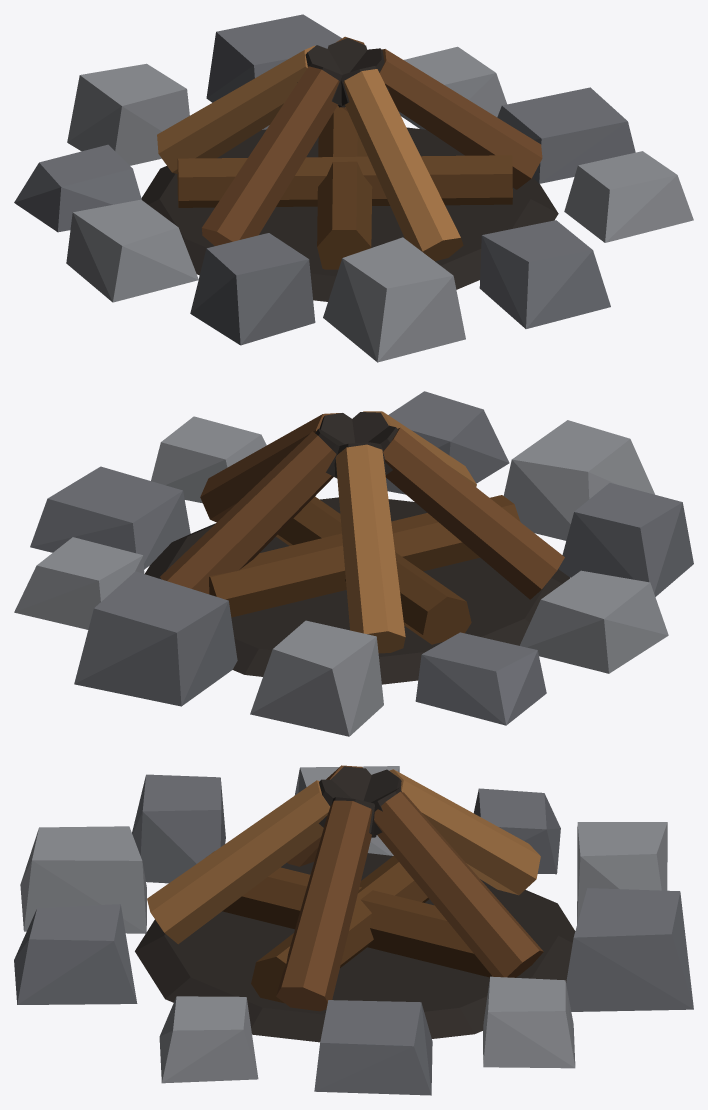
File: fire.glb
3 renders of one model, top to bottom at view 1: azimuth 30°, elevation 25°; view 2: azimuth 150°, elevation 25°; view 3: azimuth 270°, elevation 25°, orthographic. The views are drawn at different scales.
Visible parts, largest first — view 1: fire; view 2: fire; view 3: fire.
Boxes of the visible parts, <box> form: fire: <box>14,14,693,362</box>; fire: <box>14,391,693,736</box>; fire: <box>14,765,693,1095</box>.
Size of the model in its own units: 0.974 by 0.2735 by 0.9935.
